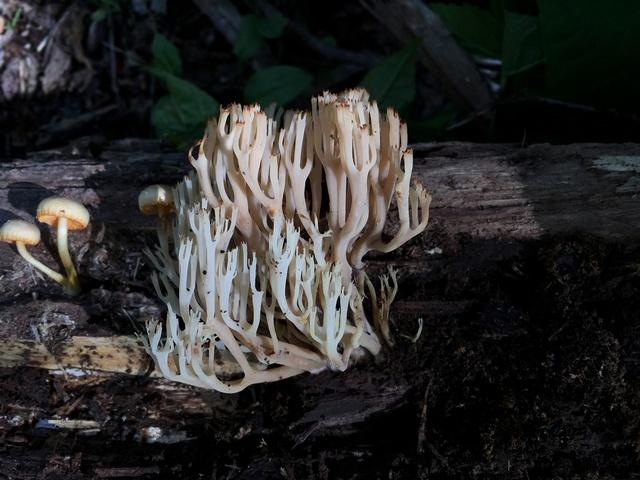edible_mushroom: (135, 86, 432, 393), (0, 195, 90, 296)
